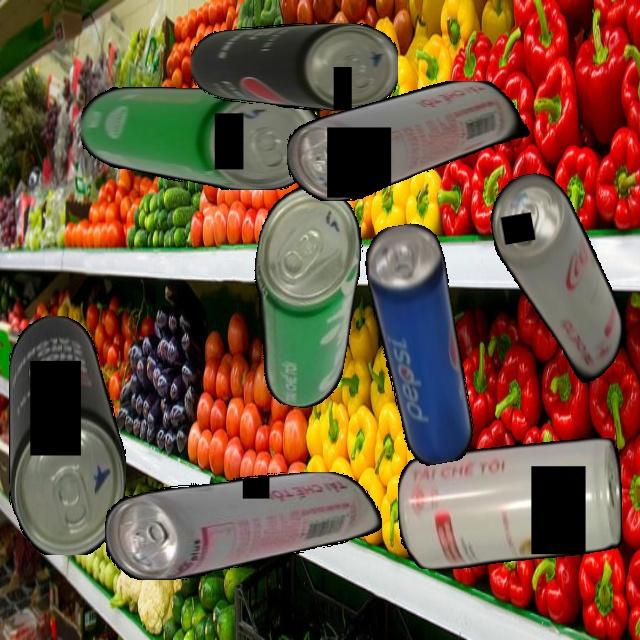debris: (484, 163, 634, 404), (232, 179, 373, 413), (105, 471, 382, 580), (360, 219, 479, 470), (397, 437, 623, 569), (287, 80, 530, 201), (8, 315, 126, 555), (80, 87, 319, 190), (190, 23, 398, 111)
